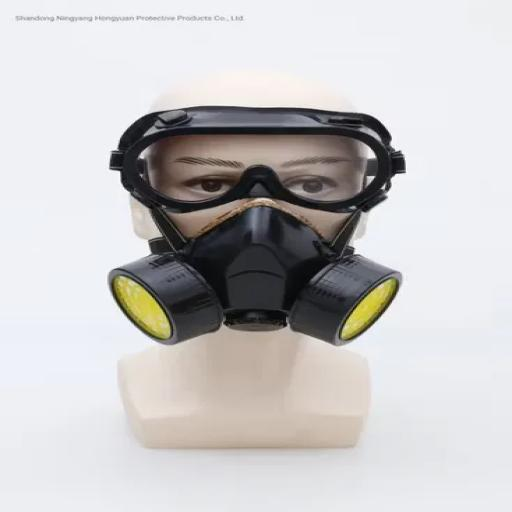mask: (98, 207, 411, 349)
